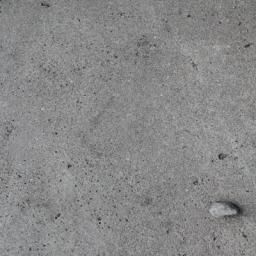FOD: (209, 196, 242, 223)
